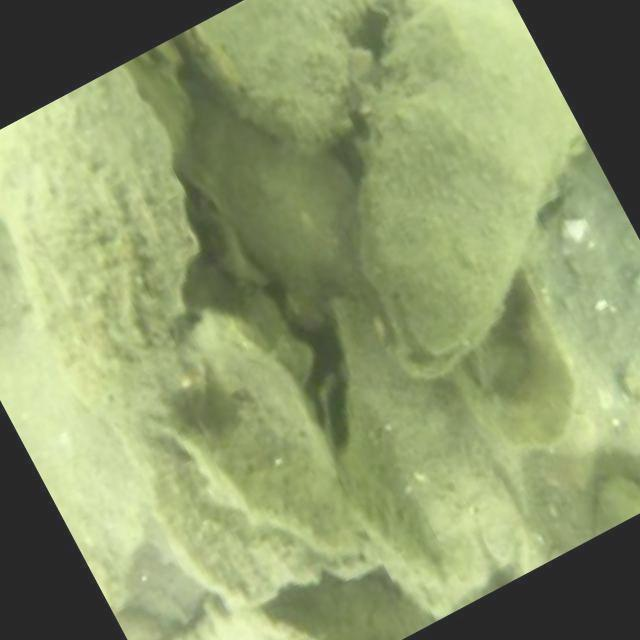Oyster-Closed: (358, 0, 584, 384), (0, 61, 203, 455), (332, 297, 523, 615), (190, 301, 373, 566), (0, 306, 153, 619), (127, 447, 377, 608), (187, 97, 355, 289), (175, 0, 369, 147), (346, 456, 442, 582), (172, 592, 335, 639)
Oyster-Open: (320, 365, 357, 448)
